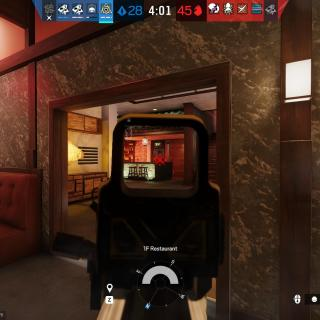Friend_label: (124, 117, 134, 128)
